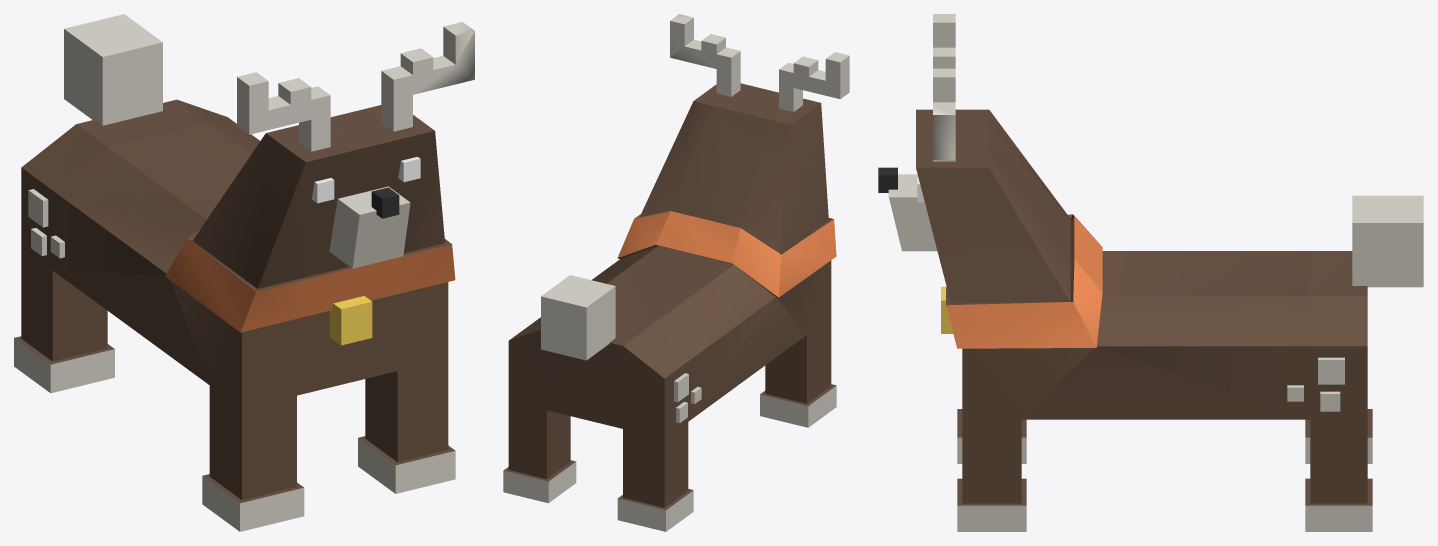
The model's file is 008 Reindeer.fbx.
The picture shows the model from 3 angles, left to right: view 1: azimuth 30°, elevation 25°; view 2: azimuth 150°, elevation 25°; view 3: azimuth 270°, elevation 25°; orthographic projection. The views are drawn at different scales.
Parts seen in each view (by area): view 1: Lowpoly_Christmas_Pack_08:pCube16; view 2: Lowpoly_Christmas_Pack_08:pCube16; view 3: Lowpoly_Christmas_Pack_08:pCube16.
Boxes of the visible parts, <box> form: Lowpoly_Christmas_Pack_08:pCube16: <box>14,14,474,531</box>; Lowpoly_Christmas_Pack_08:pCube16: <box>503,14,849,531</box>; Lowpoly_Christmas_Pack_08:pCube16: <box>878,14,1423,531</box>.
Bounding box in the file's own units: 1.48 × 2.85 × 3.36.
